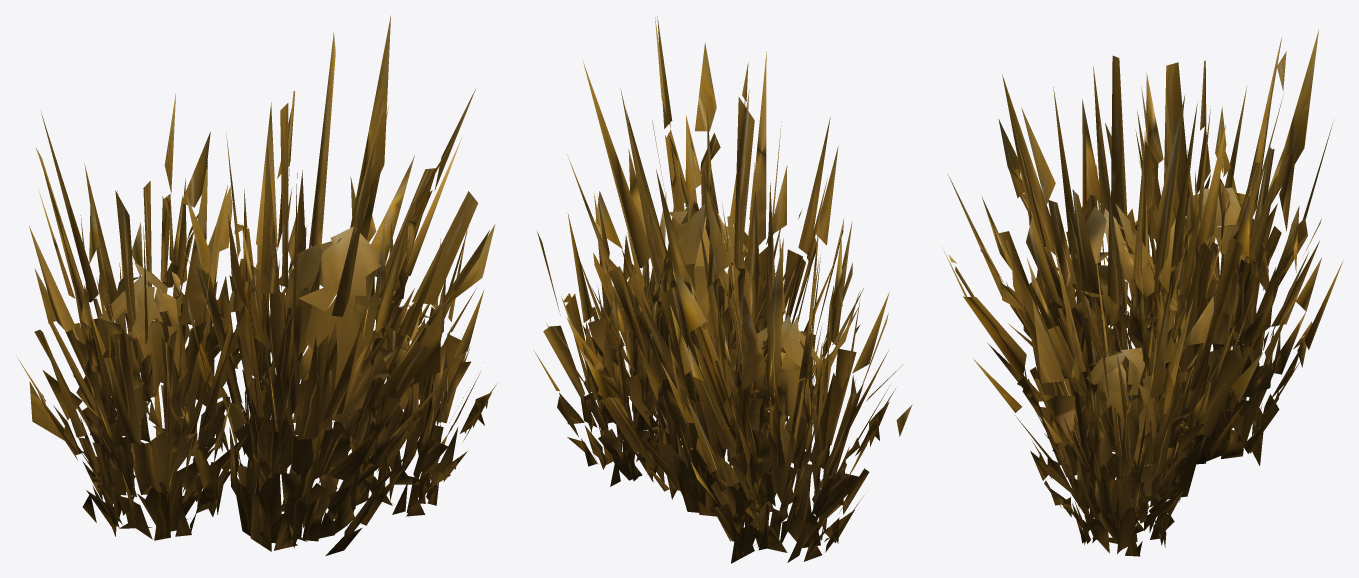
File: desert_grass_blades_trio_lod1.glb
3 renders of one model, left to right at view 1: azimuth 30°, elevation 25°; view 2: azimuth 150°, elevation 25°; view 3: azimuth 270°, elevation 25°, orthographic. The views are drawn at different scales.
Visible parts, largest first — view 1: desert_grass_blades_trio.001; view 2: desert_grass_blades_trio.001; view 3: desert_grass_blades_trio.001.
Part boxes in pixels (x1,y1,x2,y2): desert_grass_blades_trio.001: [16, 15, 497, 555]; desert_grass_blades_trio.001: [534, 16, 912, 563]; desert_grass_blades_trio.001: [942, 30, 1343, 556].
Bounding box in the file's own units: 0.8924 × 0.9895 × 0.7362.
1 material, 1 textured.
